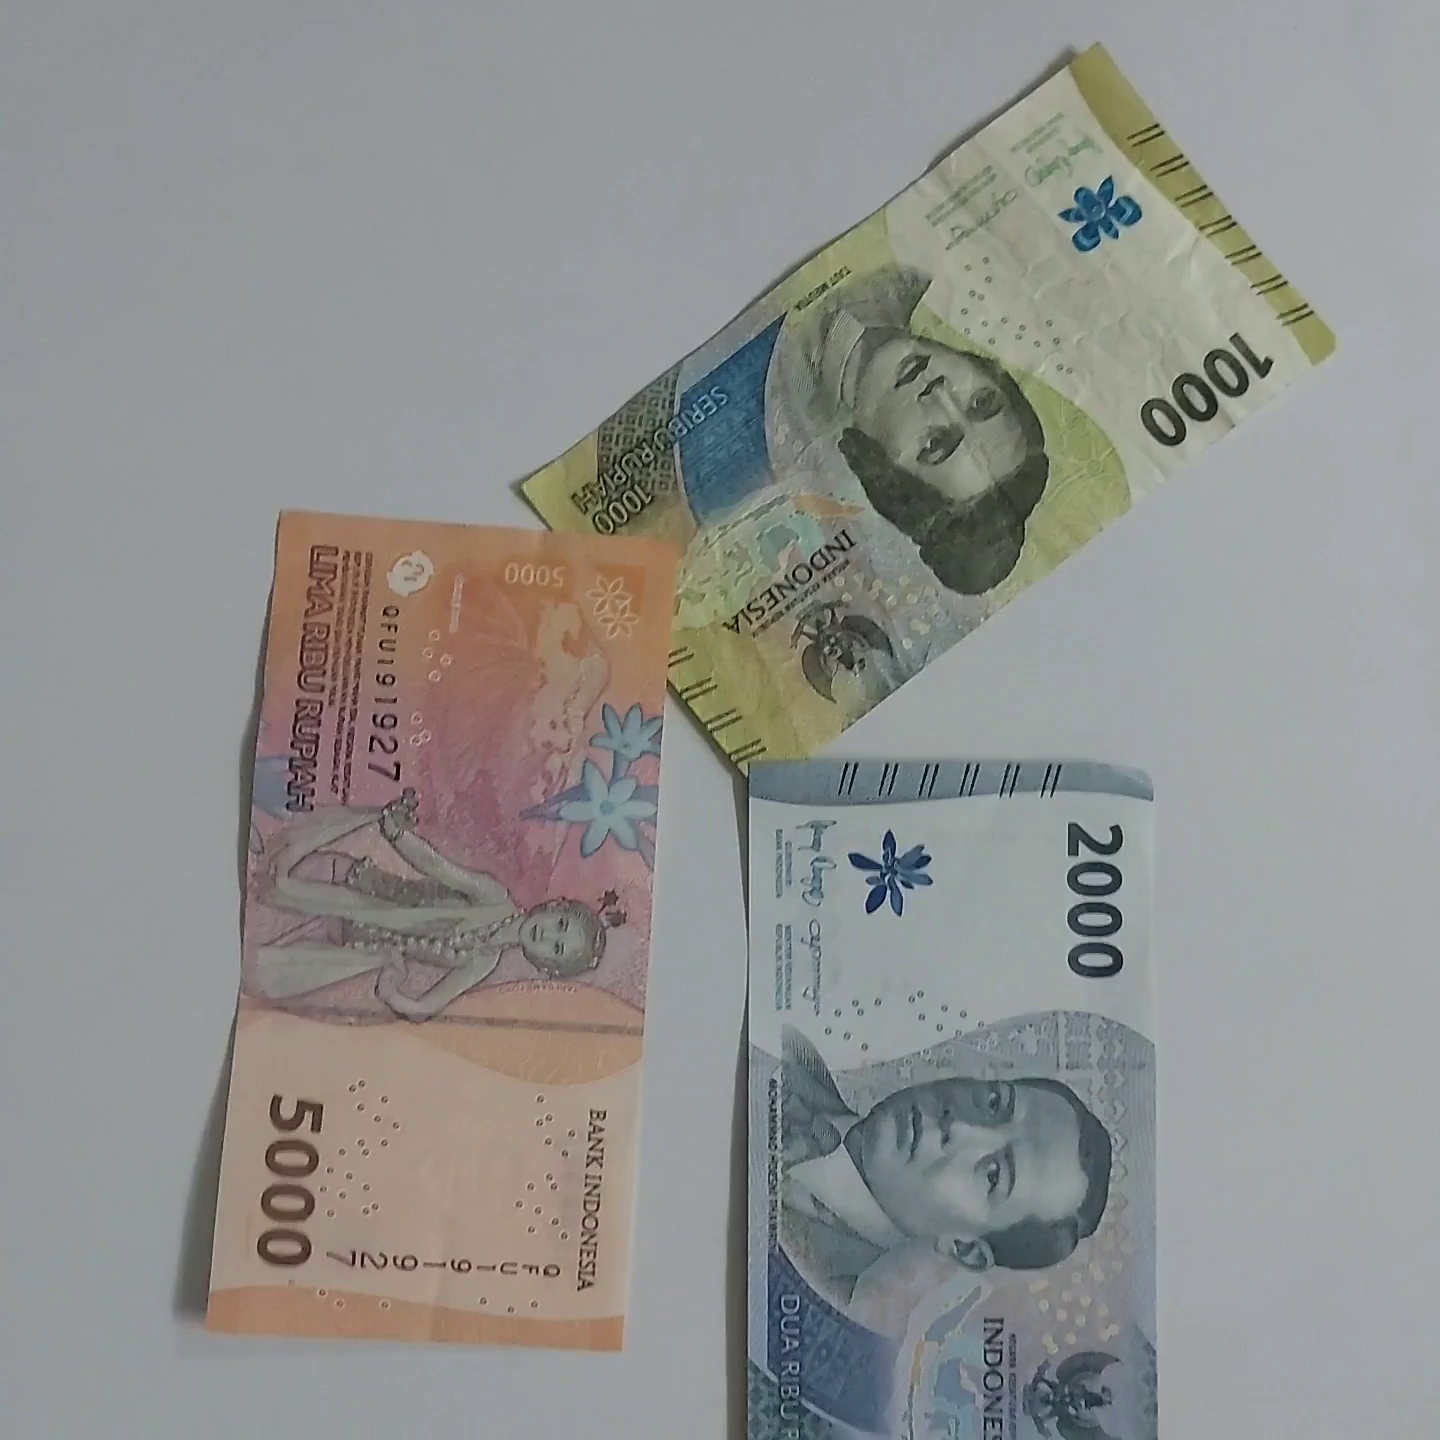1k: (493, 29, 1362, 746)
2k: (679, 737, 1216, 1440)
5k: (129, 375, 671, 1408)
